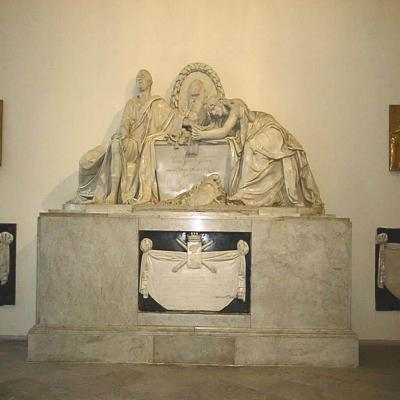sculpture: (30, 58, 359, 370)
